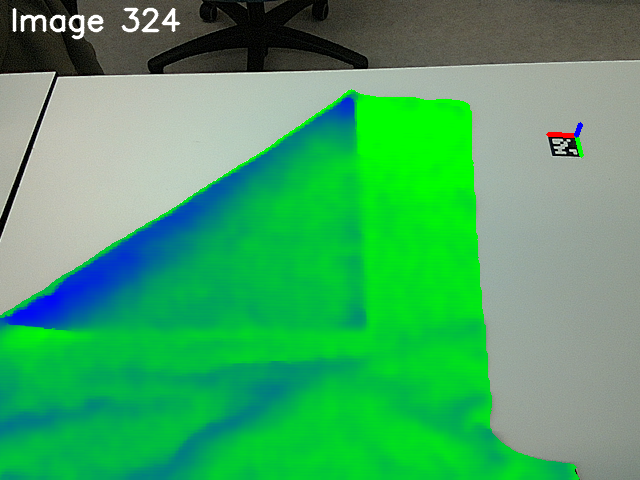V: (313, 277, 384, 341)
